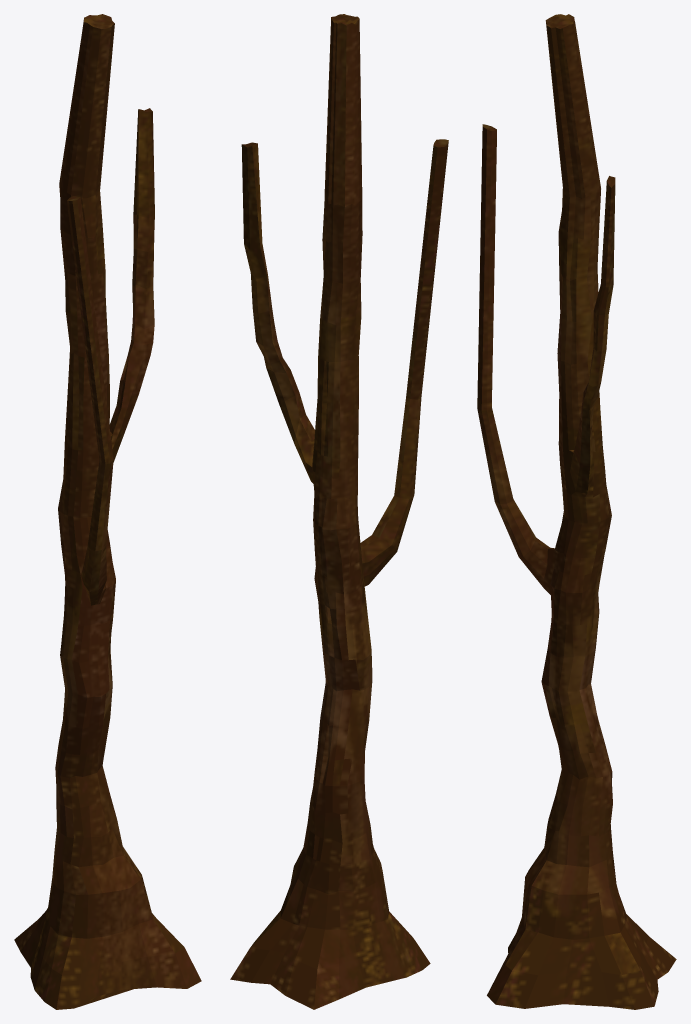
The model's file is SM_Tree6.fbx.
3 views of the same model, side by side, from view 1: azimuth 30°, elevation 25°; view 2: azimuth 150°, elevation 25°; view 3: azimuth 270°, elevation 25° (orthographic).
Parts seen in each view (by area): view 1: Cylinder.006; view 2: Cylinder.006; view 3: Cylinder.006.
Part boxes in pixels (x1=…): Cylinder.006: x1=14, y1=14, x2=201, y2=1009; Cylinder.006: x1=230, y1=14, x2=448, y2=1009; Cylinder.006: x1=477, y1=14, x2=676, y2=1009.
Size of the model in its own units: 282 by 1764 by 333.
